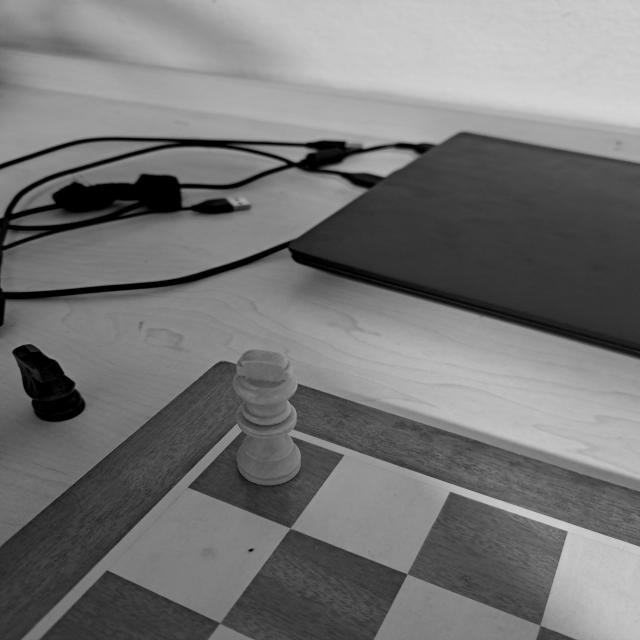chess-table-corners: (194, 400, 318, 452)
